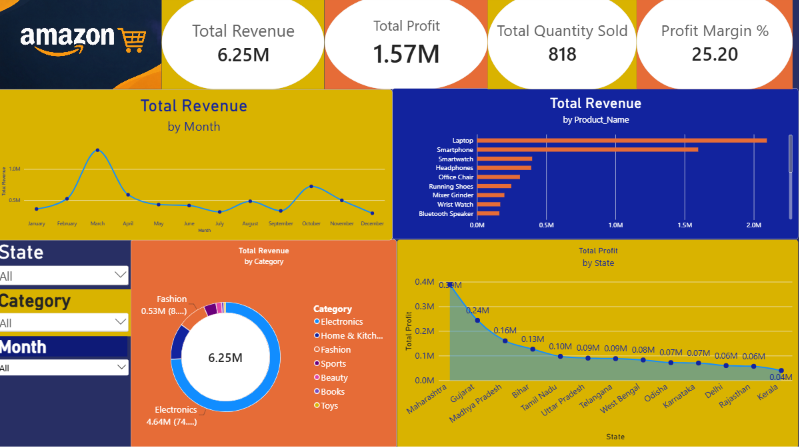

Layout of this report page (visuals, bound fields, positions):
{"tool":"powerbi","page":{"name":"Page 1","canvas":[1920,1080],"ordinal":0},"visuals":[{"type":"image","box":[9.5,0,388.9,224.3],"z":0},{"type":"cardVisual","fields":{"Data":["Raw_Data.Total Profit"]},"box":[787.4,0,389,224],"z":3},{"type":"clusteredBarChart","fields":{"Category":["Raw_Data.Product_Name"],"Y":["Raw_Data.Total Revenue"]},"box":[947.2,221.9,973.5,360.3],"z":9},{"type":"areaChart","fields":{"Category":["Raw_Data.State"],"Y":["Raw_Data.Total Profit"]},"box":[959.1,582.2,961.5,498.7],"z":11},{"type":"donutChart","fields":{"Category":["Raw_Data.Category"],"Y":["Raw_Data.Total Revenue"]},"box":[324.5,582.2,634.7,498.7],"z":12},{"type":"cardVisual","fields":{"Data":["Raw_Data.Total Quantity Sold"]},"box":[1176.3,0,355.5,224.3],"z":13},{"type":"cardVisual","fields":{"Data":["Raw_Data.Total Revenue"]},"box":[398.4,0,388.9,224.3],"z":14},{"type":"cardVisual","fields":{"Data":["Raw_Data.profit Margin %"]},"box":[1531.8,0,372.2,224.3],"z":15},{"type":"lineChart","fields":{"Category":["Raw_Data.Order_Date.Variation.Date Hierarchy.Month"],"Y":["Raw_Data.Total Revenue"]},"box":[0,224.3,949.6,360.3],"z":16},{"type":"slicer","fields":{"Values":["Raw_Data.State"]},"box":[0,584.5,324.5,116.9],"z":17},{"type":"slicer","fields":{"Values":["Raw_Data.Category"]},"box":[0,701.5,324.5,112.1],"z":18},{"type":"slicer","fields":{"Values":["Raw_Data.Order_Date.Variation.Date Hierarchy.Month"]},"box":[0,813.6,324.5,133.6],"z":19}]}

Visuals, with their boxes in screenshot pixels (x1, y1, x2, y2), scaled from the page's 1920x1080 canvas onto the 799x447 screenshot:
image: <region>4, 0, 166, 93</region>
cardVisual - Raw_Data.Total Profit: <region>328, 0, 490, 93</region>
clusteredBarChart - Raw_Data.Product_Name x Raw_Data.Total Revenue: <region>394, 92, 798, 241</region>
areaChart - Raw_Data.State x Raw_Data.Total Profit: <region>399, 241, 798, 446</region>
donutChart - Raw_Data.Category x Raw_Data.Total Revenue: <region>135, 241, 399, 446</region>
cardVisual - Raw_Data.Total Quantity Sold: <region>490, 0, 637, 93</region>
cardVisual - Raw_Data.Total Revenue: <region>166, 0, 328, 93</region>
cardVisual - Raw_Data.profit Margin %: <region>637, 0, 792, 93</region>
lineChart - Raw_Data.Order_Date.Variation.Date Hierarchy.Month x Raw_Data.Total Revenue: <region>0, 93, 395, 242</region>
slicer - Raw_Data.State: <region>0, 242, 135, 290</region>
slicer - Raw_Data.Category: <region>0, 290, 135, 337</region>
slicer - Raw_Data.Order_Date.Variation.Date Hierarchy.Month: <region>0, 337, 135, 392</region>
